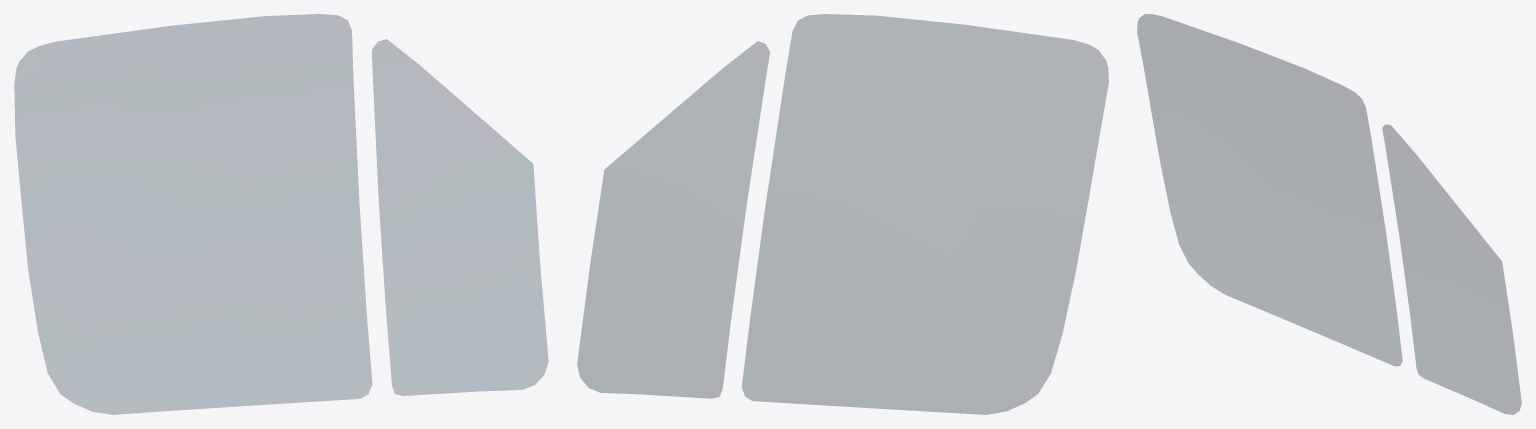
3 renders of one model, left to right at view 1: azimuth 30°, elevation 25°; view 2: azimuth 150°, elevation 25°; view 3: azimuth 330°, elevation 25°, orthographic. The views are drawn at different scales.
Parts seen in each view (by area): view 1: SM_MercedesSprinter_Door_FL_Glass_Int1; view 2: SM_MercedesSprinter_Door_FL_Glass_Int1; view 3: SM_MercedesSprinter_Door_FL_Glass_Int1.
Part boxes in pixels (x1,y1,x2,y2): SM_MercedesSprinter_Door_FL_Glass_Int1: (14,14,548,414); SM_MercedesSprinter_Door_FL_Glass_Int1: (577,14,1108,414); SM_MercedesSprinter_Door_FL_Glass_Int1: (1137,14,1521,414).
Size of the model in its own units: 0.8741 by 0.7292 by 0.0522.
